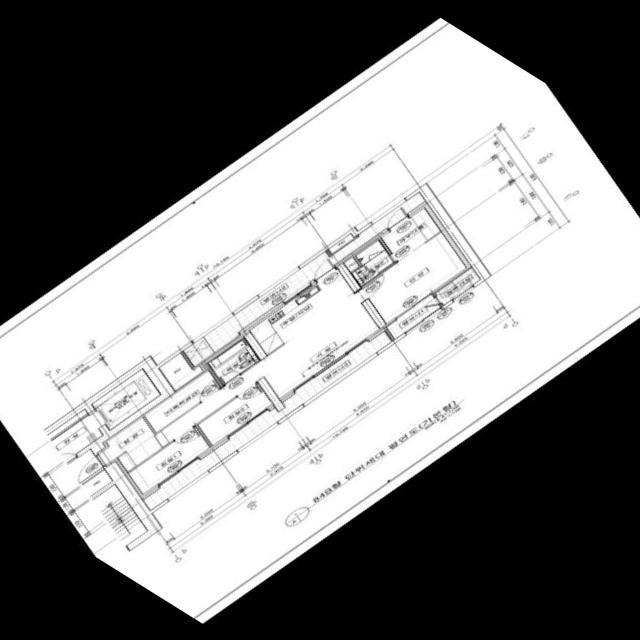background: (0, 17, 640, 623)
space_balconi: (142, 330, 391, 509), (182, 191, 424, 366), (386, 293, 440, 338)
space_bedroom: (361, 228, 470, 324), (125, 425, 210, 496), (197, 381, 273, 446)
space_dressroom: (381, 207, 440, 260)
space_elevator: (91, 368, 160, 429)
space_elevator_hall: (47, 408, 102, 460), (67, 448, 102, 481)
space_front: (97, 415, 162, 473)
space_kitchen: (247, 267, 354, 354)
space_living_room: (154, 293, 380, 446)
space_multipurpose_space: (143, 368, 220, 431)
space_other: (158, 351, 202, 390), (82, 468, 111, 495), (327, 232, 355, 253), (343, 256, 358, 271)
space_outdoor_room: (435, 267, 479, 304)
space_staircase: (92, 483, 146, 545)
space_toilet: (207, 336, 259, 384), (351, 249, 393, 285), (355, 239, 384, 264)
